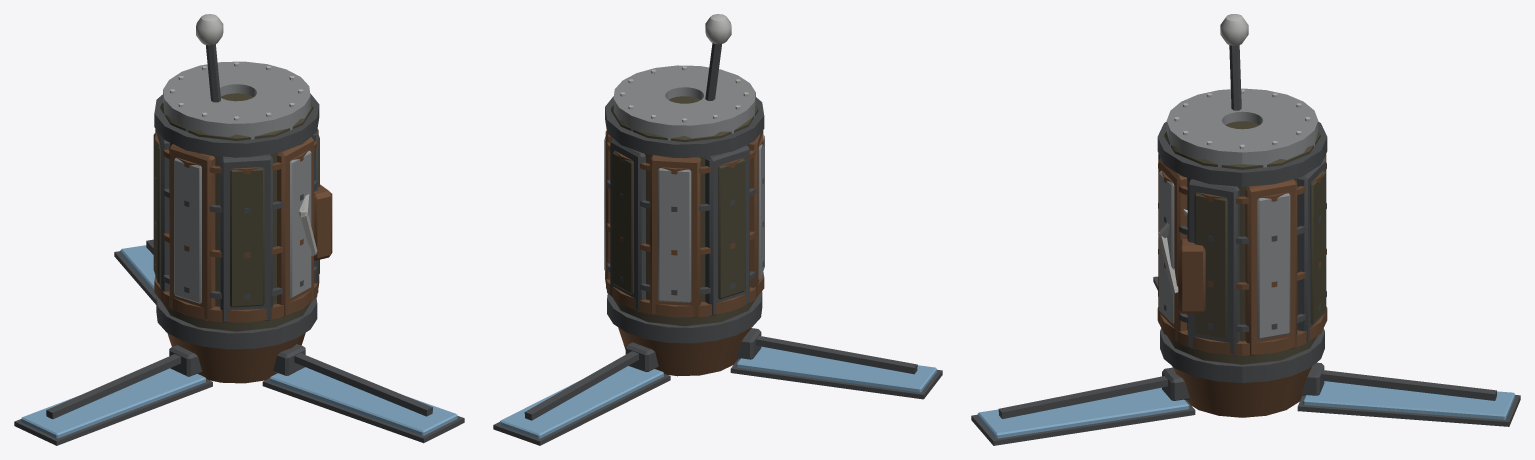
The model's file is cargo-pod-container.glb.
The picture shows the model from 3 angles, left to right: view 1: azimuth 30°, elevation 25°; view 2: azimuth 150°, elevation 25°; view 3: azimuth 270°, elevation 25°; orthographic projection. The views are drawn at different scales.
Parts seen in each view (by area): view 1: body; view 2: body; view 3: body.
Boxes of the visible parts, x1,y1,x2,y2 form: body: (14,14,464,445); body: (493,14,942,445); body: (971,14,1520,445).
Size of the model in its own units: 2.73 by 2.72 by 3.73.
